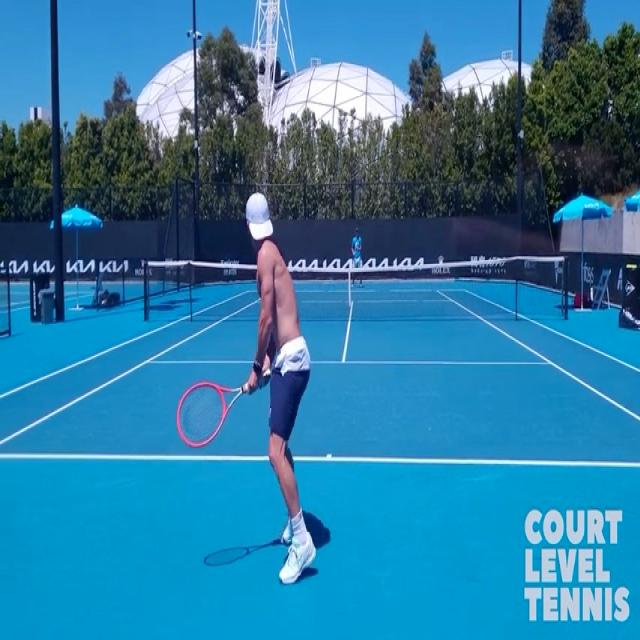backhand-ready: (178, 197, 320, 602)
